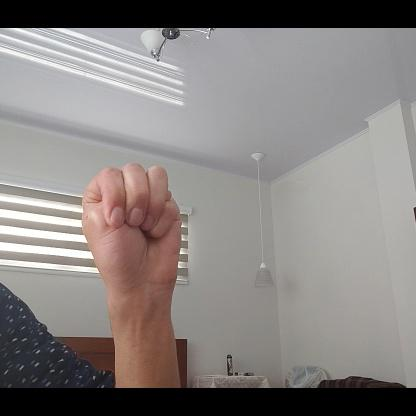M: (77, 164, 183, 302)
